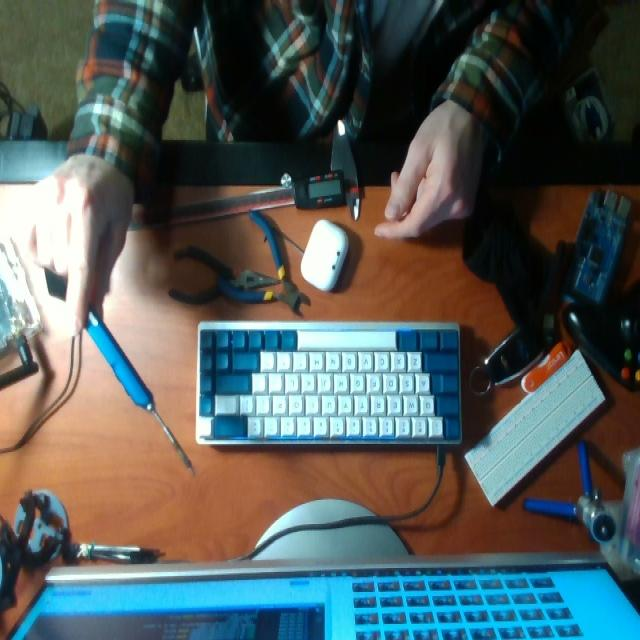keyboard: (195, 324, 463, 440)
